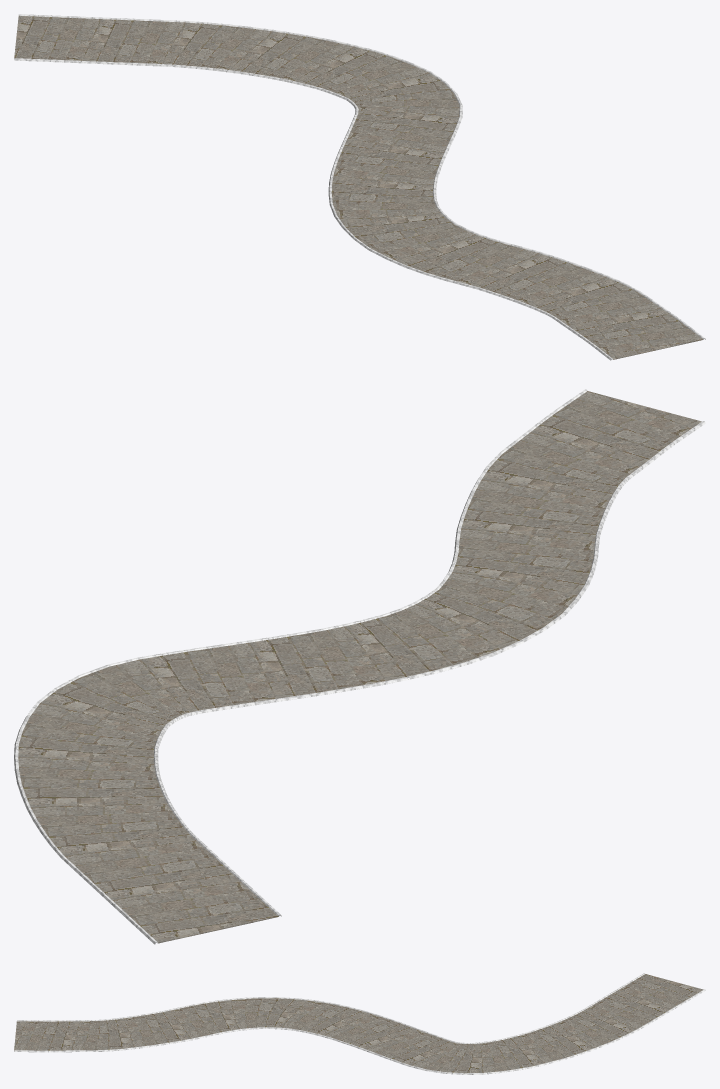
The model's file is path.glb.
3 renders of one model, top to bottom at view 1: azimuth 30°, elevation 25°; view 2: azimuth 150°, elevation 25°; view 3: azimuth 270°, elevation 25°, orthographic. The views are drawn at different scales.
Visible parts, largest first — view 1: Plane.002; view 2: Plane.002; view 3: Plane.002.
Part boxes in pixels (x1,y1,x2,y2): Plane.002: (14, 14, 705, 360); Plane.002: (14, 389, 705, 944); Plane.002: (14, 973, 705, 1074).
Size of the model in its own units: 7.49 by 0.0397 by 21.67.
2 materials, 2 textured.
